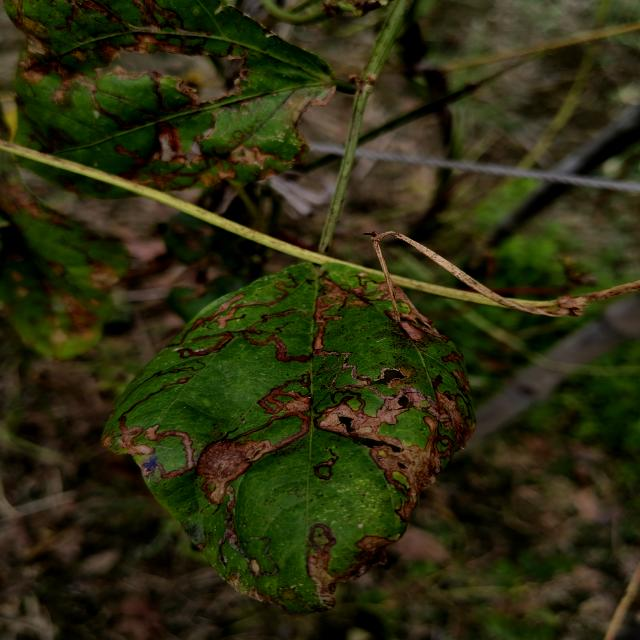11: (54, 160, 363, 269), (365, 231, 640, 317)
leaf-moderate: (103, 265, 474, 612)
